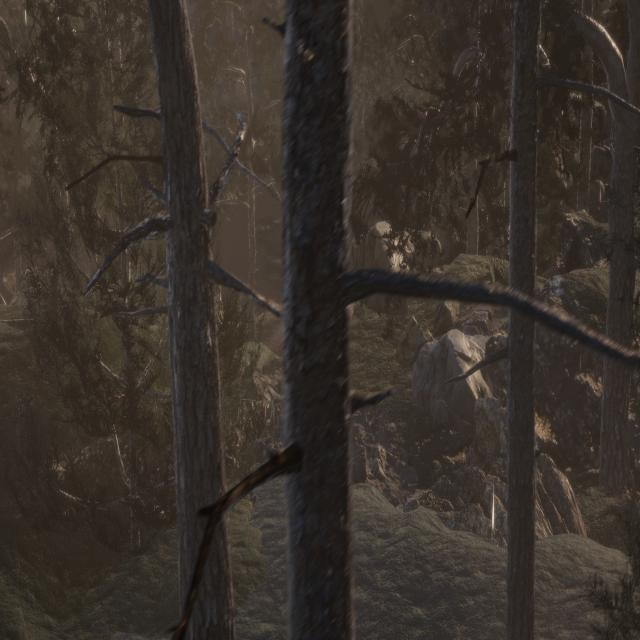Human: (360, 404, 381, 450)
